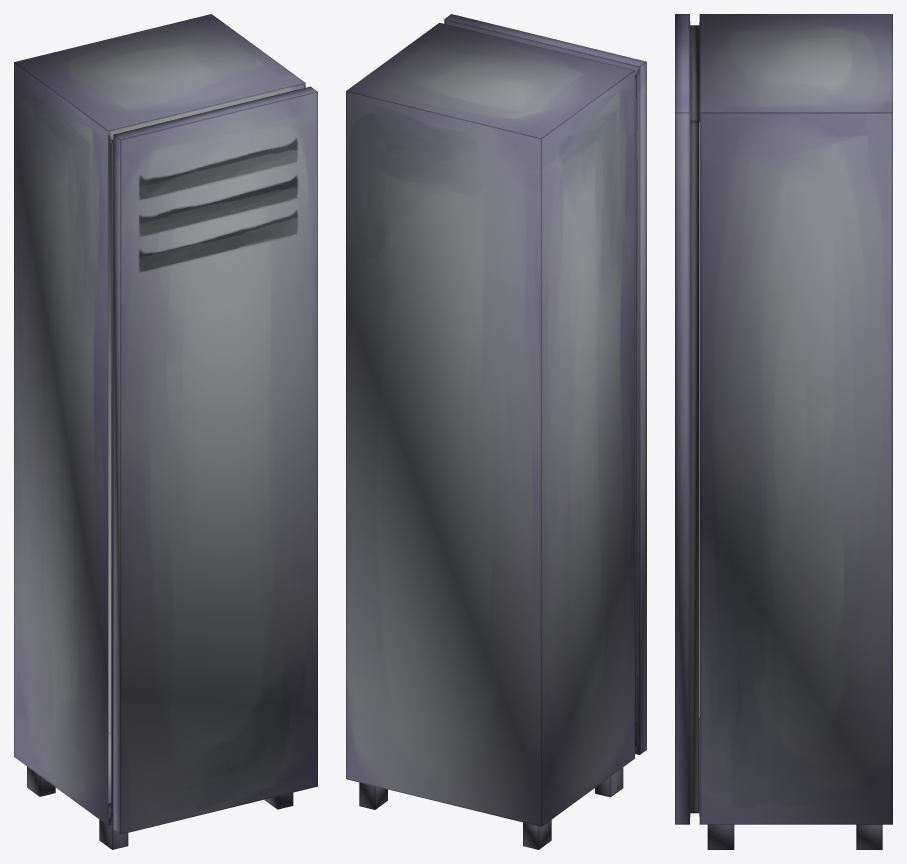
The model's file is Locker.fbx.
3 renders of one model, left to right at view 1: azimuth 30°, elevation 25°; view 2: azimuth 150°, elevation 25°; view 3: azimuth 270°, elevation 25°, orthographic. The views are drawn at different scales.
Visible parts, largest first — view 1: Cube; view 2: Cube; view 3: Cube.
Part boxes in pixels (bbox=[...]): Cube: bbox=[14, 14, 317, 849]; Cube: bbox=[346, 14, 646, 849]; Cube: bbox=[675, 14, 892, 849].
Bounding box in the file's own units: 132 × 461 × 123.
